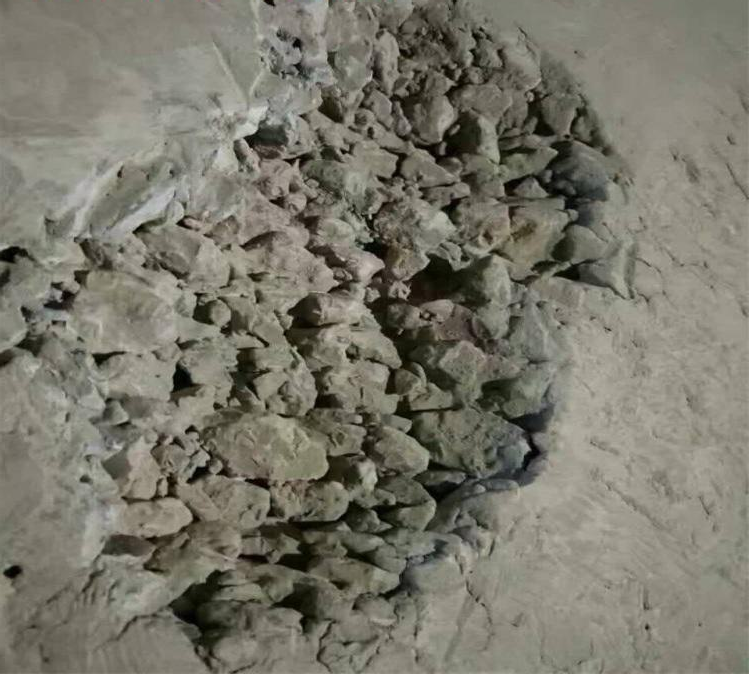Spalling: (1, 1, 642, 674)
